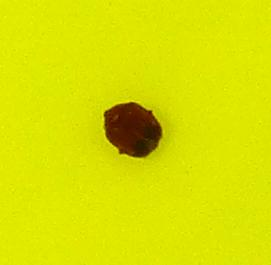Coleoptera: (100, 100, 171, 165)
